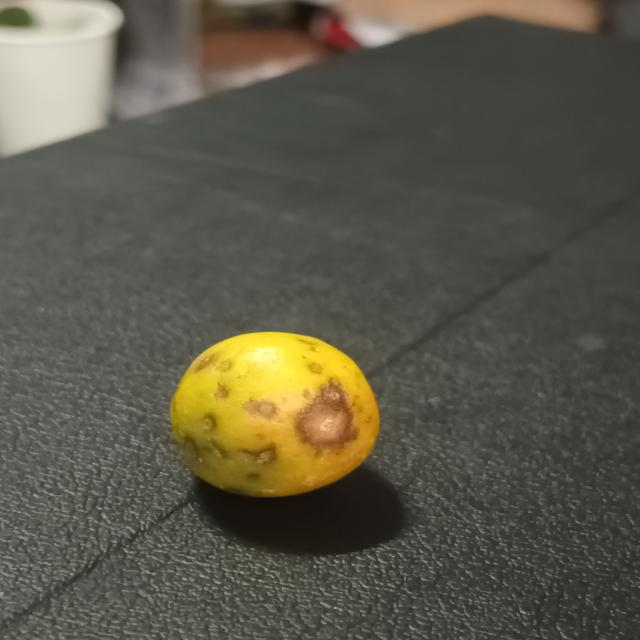black spot: (162, 326, 388, 508)
